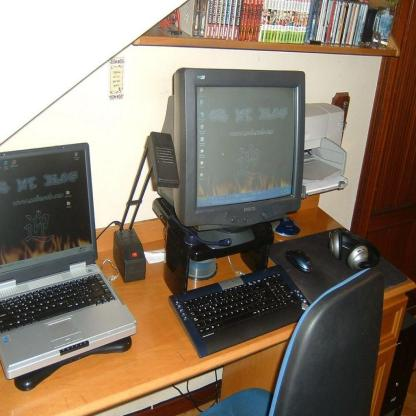board: (0, 140, 136, 379)
